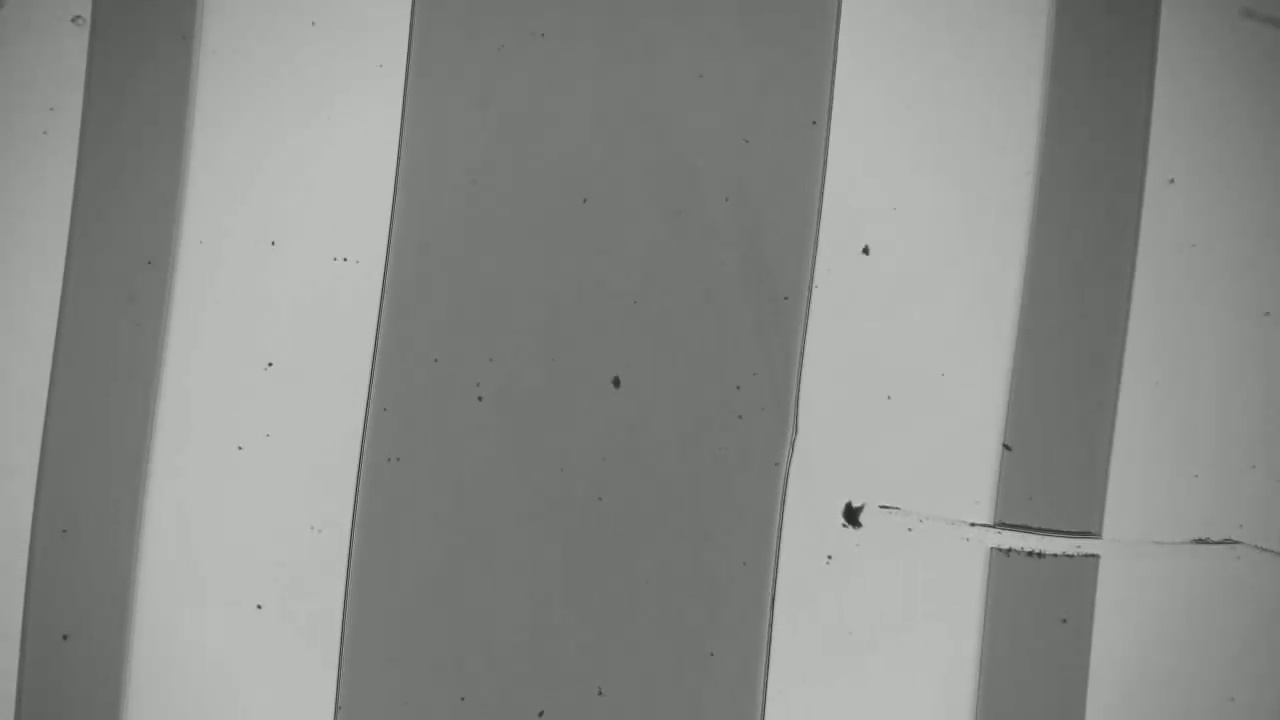Short_circuit: (958, 517, 1126, 571)
